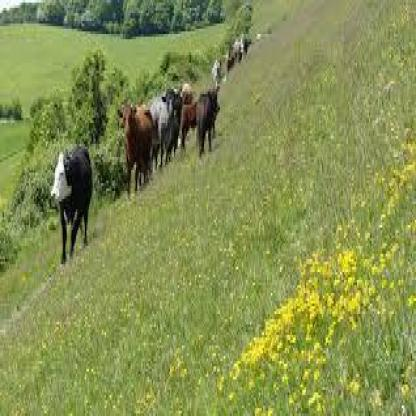cow: (51, 144, 93, 267), (116, 106, 154, 200), (147, 85, 180, 169), (196, 84, 221, 154), (181, 101, 198, 148), (180, 81, 194, 102)
